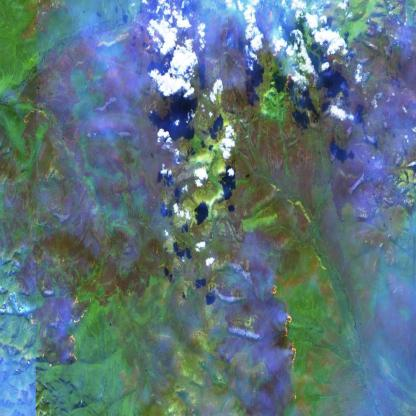fire: (25, 286, 90, 374), (266, 280, 304, 402), (17, 93, 59, 142), (277, 65, 300, 95), (308, 72, 320, 95), (266, 46, 282, 60)
